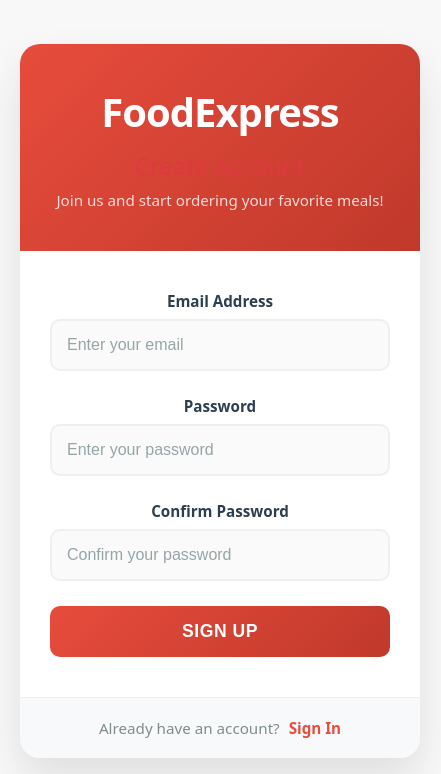
Test: Register Component › shows error when password is too short
This screenshot has width=441, height=774.
Type "test@example.com" into the field labelled "Email Address" at (220, 345), box [50,319,390,371]
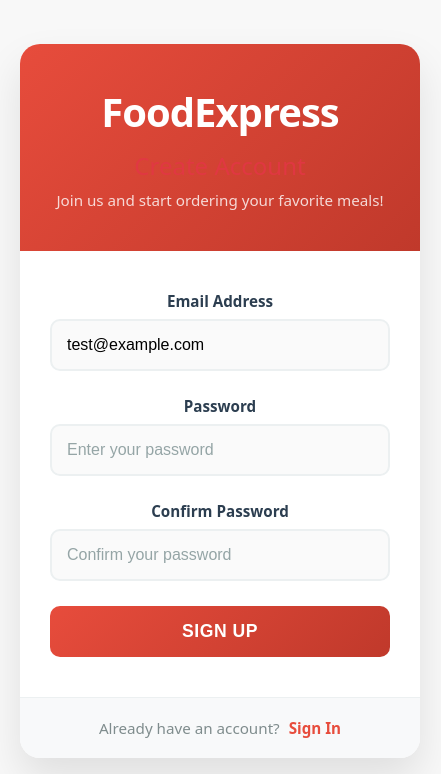
Type "12345" into the password field labelled "Password" at (220, 450), box [50,424,390,476]
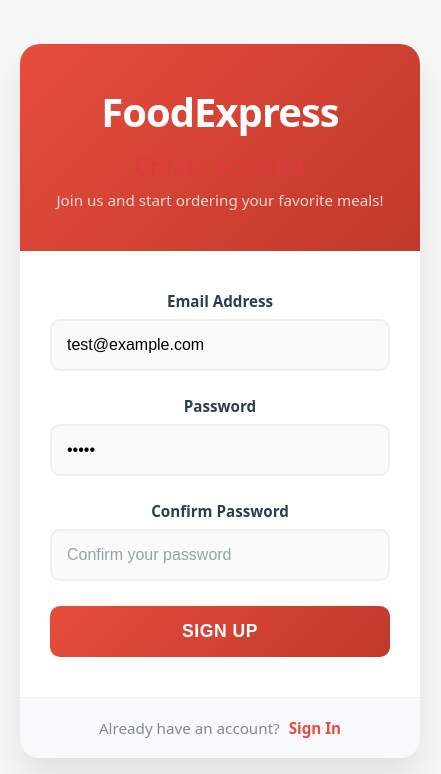
Type "12345" into the password field labelled "Confirm Password" at (220, 555), box [50,529,390,581]
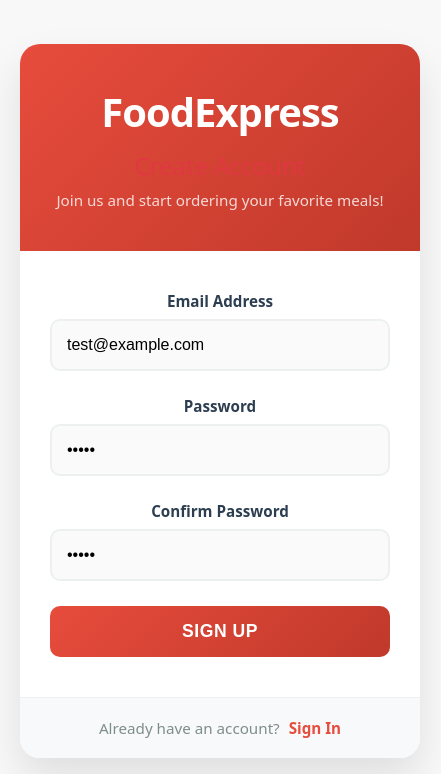
Click the button "Sign Up" at (220, 632), box [50,606,390,657]
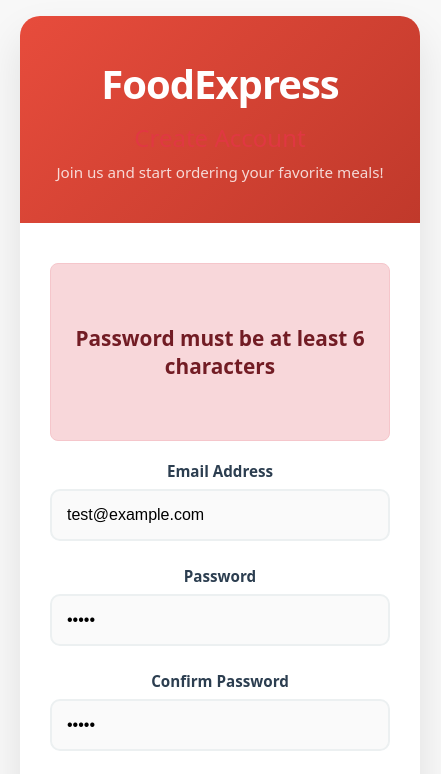
Now the text "Password must be at least 6 characters" is shown, box [50,263,390,441]
